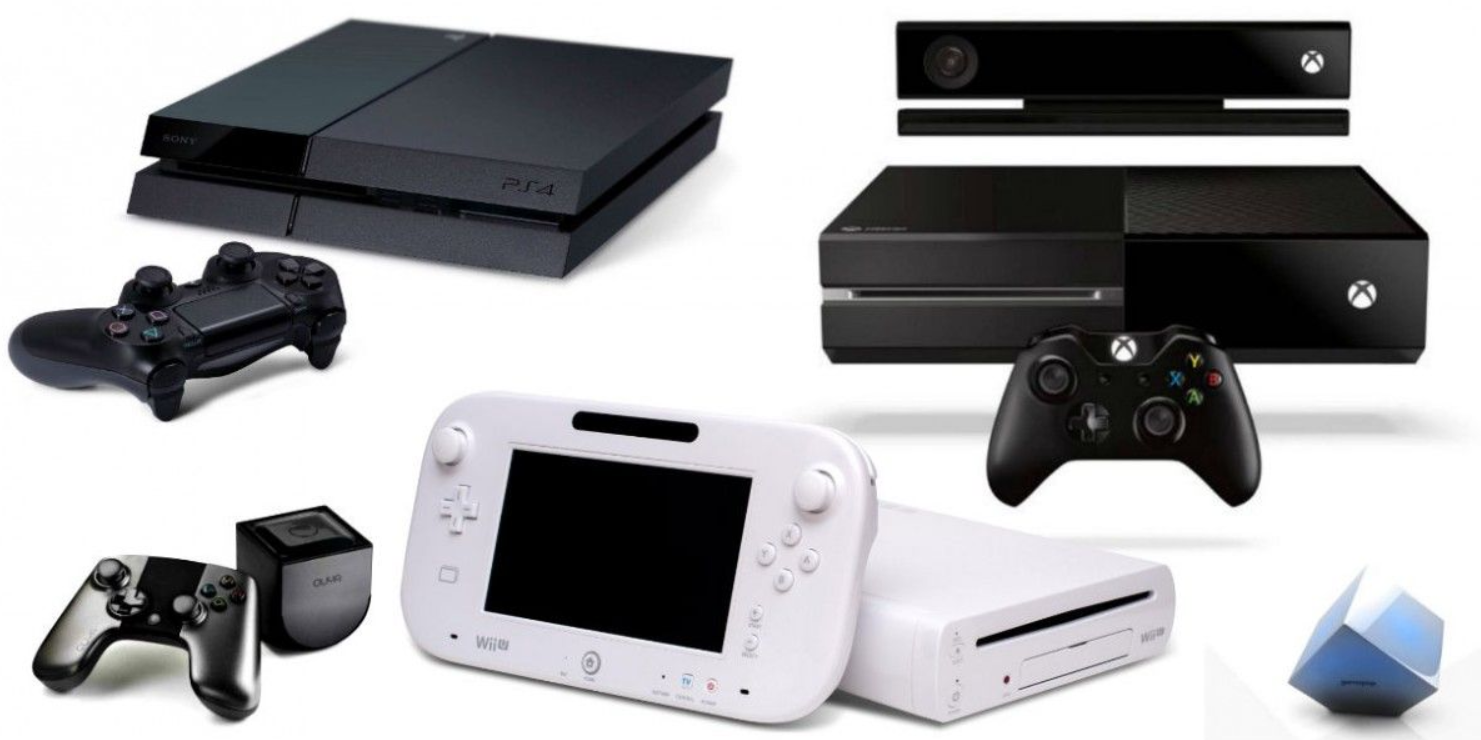gamingconsole: (10, 247, 346, 418), (989, 333, 1261, 512), (32, 553, 260, 724)
